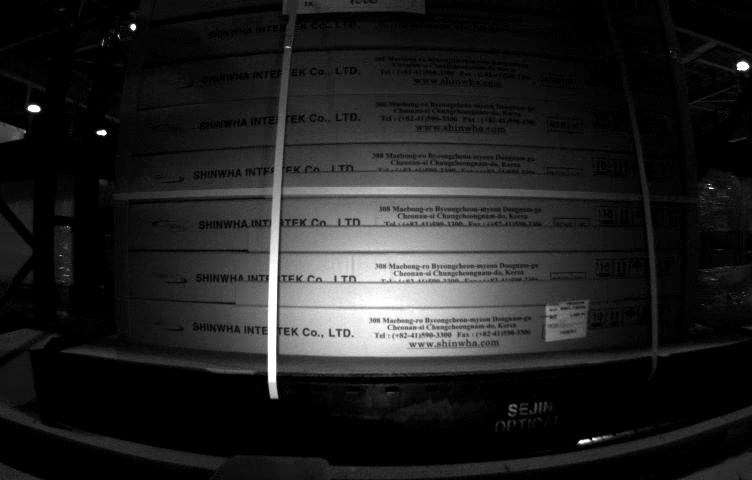True Barcode: (544, 301, 586, 338)
